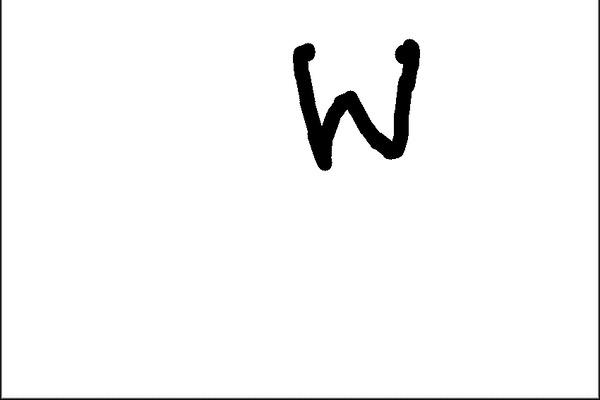w: (278, 29, 433, 180)
